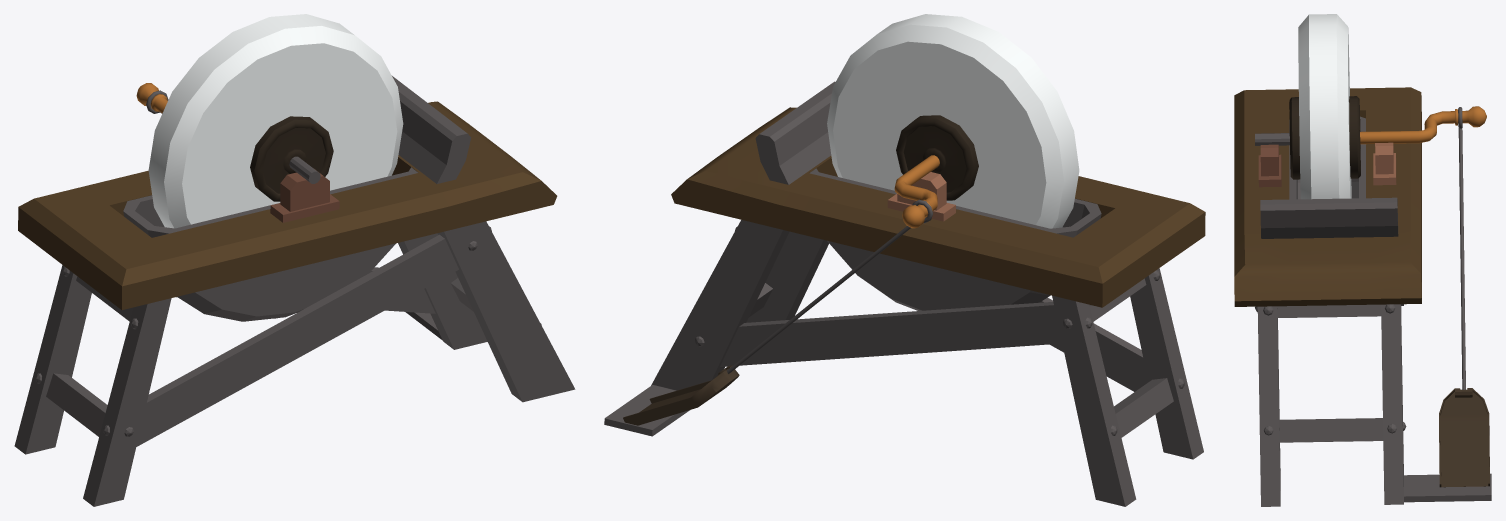
The model's file is Whetstone.fbx.
The picture shows the model from 3 angles, left to right: view 1: azimuth 30°, elevation 25°; view 2: azimuth 150°, elevation 25°; view 3: azimuth 270°, elevation 25°; orthographic projection. The views are drawn at different scales.
Parts seen in each view (by area): view 1: Base, GrindStone, Left_Support, Leg_Left_Front, WaterTrough, Lef_Left_Back, Leg_Right_Back, BackBoard, Left_StoneClamp, Leg_Right_Front, Left_Cradle, Backbar_Low (+1 smaller); view 2: Base, GrindStone, Right_Support, Leg_Right_Front, WaterTrough, Leg_Right_Back, Lef_Left_Back, BackBoard, Right_StoneClamp, Leg_Left_Front, Peddle, Left_Support (+5 smaller); view 3: Base, GrindStone, BackBoard, Peddle, Leg_Left_Front, Leg_Right_Front, FrontBar_Low, Right_Handle, Peddle_Base, FrontBar_Upper, Peddle_Rod, Left_Cradle (+5 smaller).
Part boxes in pixels (x1=…): Base: x1=18, y1=101, x2=557, y2=309; GrindStone: x1=148, y1=14, x2=403, y2=228; Left_Support: x1=136, y1=234, x2=458, y2=446; Leg_Left_Front: x1=438, y1=221, x2=575, y2=402; WaterTrough: x1=123, y1=167, x2=418, y2=321; Lef_Left_Back: x1=83, y1=298, x2=171, y2=506; Leg_Right_Back: x1=14, y1=265, x2=91, y2=454; BackBoard: x1=392, y1=76, x2=471, y2=183; Left_StoneClamp: x1=250, y1=116, x2=333, y2=201; Leg_Right_Front: x1=398, y1=233, x2=487, y2=349; Left_Cradle: x1=270, y1=169, x2=339, y2=222; Backbar_Low: x1=46, y1=373, x2=107, y2=436; Base: x1=671, y1=107, x2=1205, y2=307; GrindStone: x1=827, y1=14, x2=1079, y2=228; Right_Support: x1=720, y1=302, x2=1062, y2=366; Leg_Right_Front: x1=651, y1=220, x2=789, y2=390; WaterTrough: x1=809, y1=168, x2=1101, y2=310; Leg_Right_Back: x1=1052, y1=295, x2=1136, y2=506; Lef_Left_Back: x1=1130, y1=268, x2=1203, y2=459; BackBoard: x1=755, y1=81, x2=835, y2=184; Right_StoneClamp: x1=896, y1=115, x2=978, y2=200; Leg_Left_Front: x1=746, y1=231, x2=828, y2=322; Peddle: x1=623, y1=365, x2=739, y2=425; Left_Support: x1=1040, y1=297, x2=1148, y2=391; Base: x1=1234, y1=87, x2=1421, y2=306; GrindStone: x1=1298, y1=14, x2=1351, y2=199; BackBoard: x1=1260, y1=197, x2=1398, y2=238; Peddle: x1=1439, y1=388, x2=1489, y2=487; Leg_Left_Front: x1=1257, y1=306, x2=1280, y2=506; Leg_Right_Front: x1=1381, y1=304, x2=1403, y2=504; FrontBar_Low: x1=1279, y1=418, x2=1383, y2=442; Right_Handle: x1=1360, y1=106, x2=1486, y2=144; Peddle_Base: x1=1404, y1=473, x2=1491, y2=502; FrontBar_Upper: x1=1277, y1=304, x2=1381, y2=317; Peddle_Rod: x1=1458, y1=128, x2=1465, y2=389; Left_Cradle: x1=1258, y1=144, x2=1281, y2=187.
Bounding box in the file's own units: 1212 × 977 × 623.
